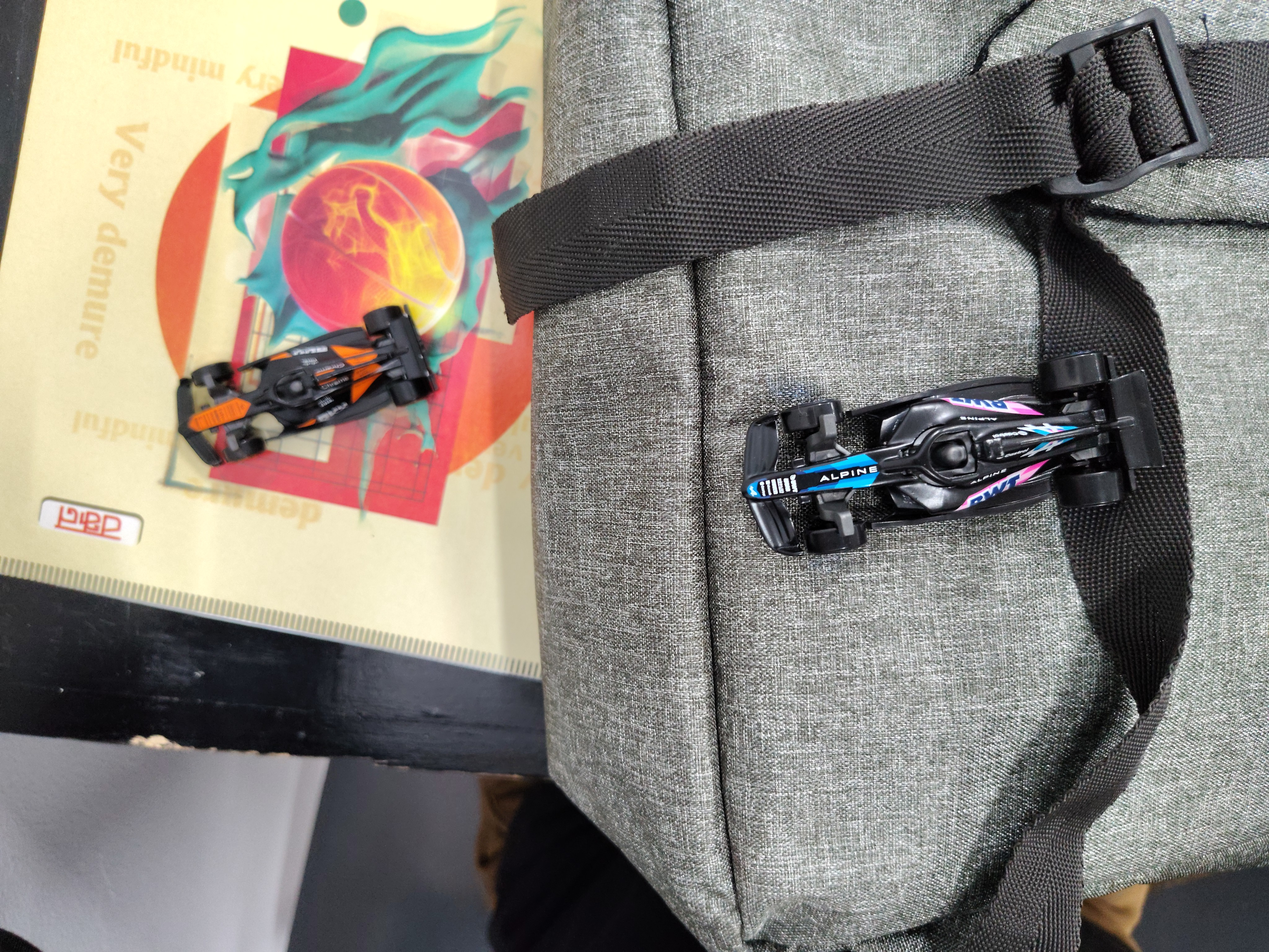Alpine A524: (686, 356, 1228, 552)
McLaren MCL40: (81, 262, 494, 508)
